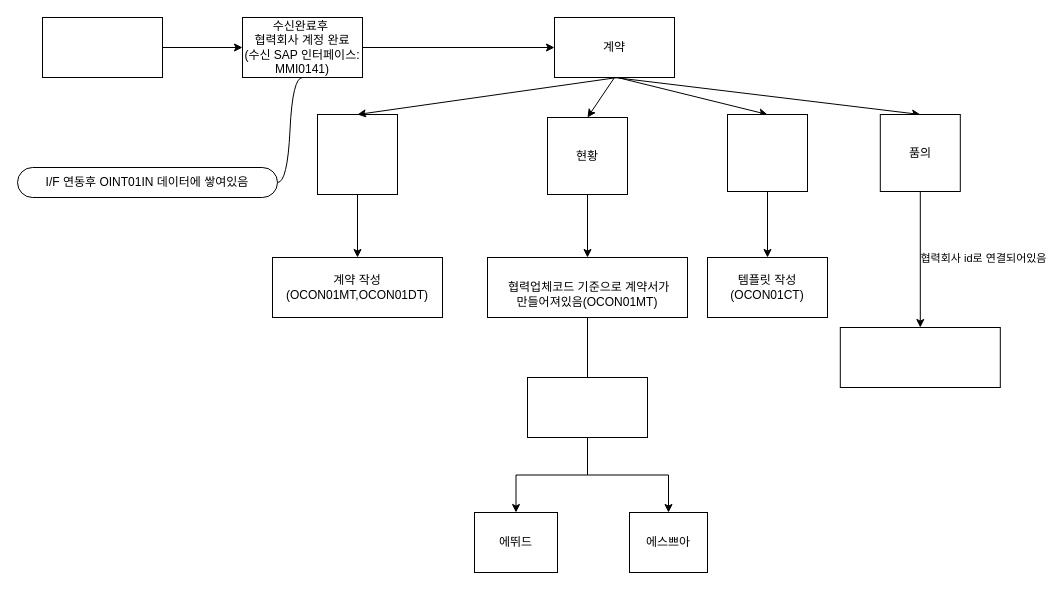
Image size: 1063x590. Some labels were removed from this diagram. The shapes that lost their labels are listed below. From the top down, each one's centre as x and y in pixels, then its label:
At [102,47]: "거래처 신청 (MMI0146)".
At [357,154]: "작성".
At [767,153]: "템플릿관리".
At [919,357]: "계약 작성에 대한 승인 여부 (OCON01MT)".
At [587,407]: "해당 협력업체 안에 사업장 계약기간만료 진행".
